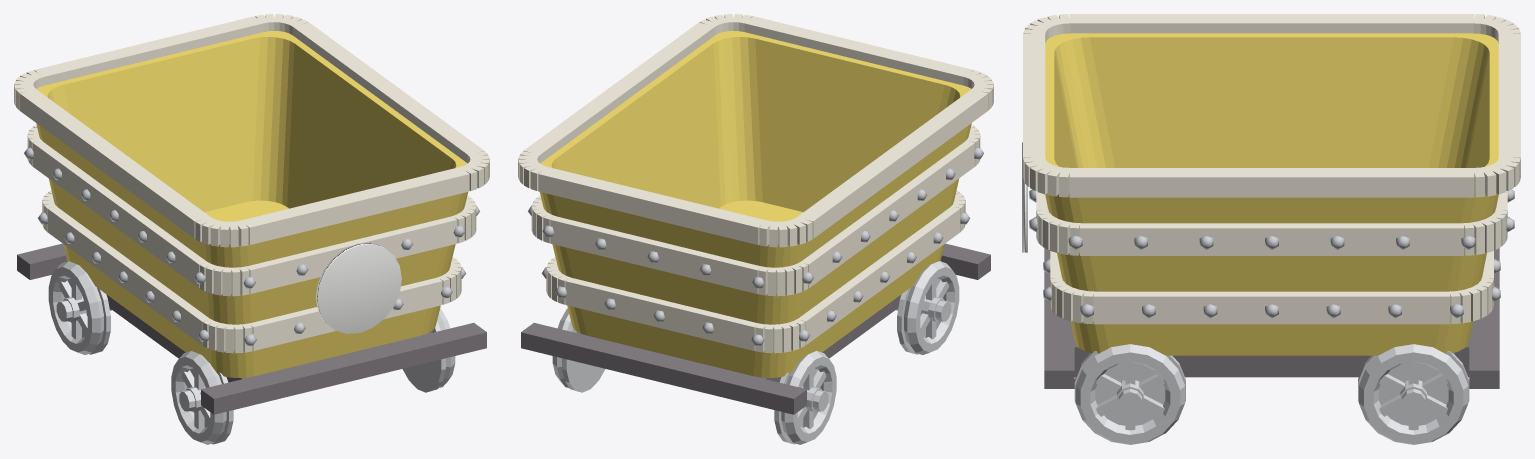
The model's file is MinecartMayhemCart.glb.
The picture shows the model from 3 angles, left to right: view 1: azimuth 30°, elevation 25°; view 2: azimuth 150°, elevation 25°; view 3: azimuth 270°, elevation 25°; orthographic projection. The views are drawn at different scales.
Visible parts, largest first — view 1: Body, Trim, Chassis, Wheels, Badge, Rivets; view 2: Body, Trim, Chassis, Wheels, Rivets; view 3: Body, Trim, Wheels, Chassis, Rivets.
Part boxes in pixels (x1,y1,x2,y2): Body: (36, 31, 468, 377); Trim: (14, 14, 489, 353); Chassis: (17, 243, 486, 414); Wheels: (48, 261, 455, 444); Badge: (316, 242, 401, 333); Rivets: (24, 147, 479, 346); Body: (539, 31, 971, 377); Trim: (518, 14, 993, 353); Chassis: (521, 243, 990, 414); Wheels: (552, 261, 959, 444); Rivets: (528, 147, 983, 346); Body: (1045, 33, 1498, 355); Trim: (1023, 14, 1520, 324); Wheels: (1074, 344, 1469, 444); Chassis: (1044, 248, 1499, 388); Rivets: (1029, 189, 1514, 318).
Size of the model in its own units: 3.82 by 3.12 by 4.93.
